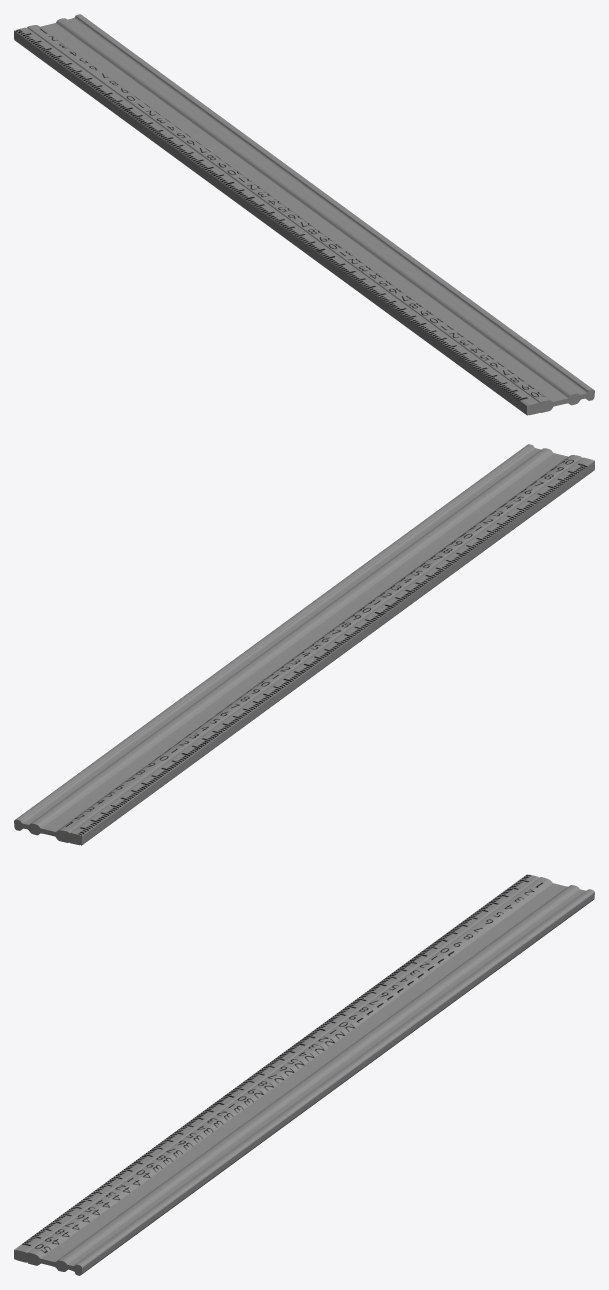
Rendered from StraightEdge.fbx.
The picture shows the model from 3 angles, top to bottom: view 1: azimuth 30°, elevation 25°; view 2: azimuth 150°, elevation 25°; view 3: azimuth 330°, elevation 25°; orthographic projection.
Visible parts, largest first — view 1: Line001; view 2: Line001; view 3: Line001.
Part boxes in pixels (x1,y1,x2,y2): Line001: [14, 14, 594, 415]; Line001: [14, 444, 594, 845]; Line001: [14, 874, 594, 1275].
Size of the model in its own units: 1.52 by 0.2417 by 19.79.
